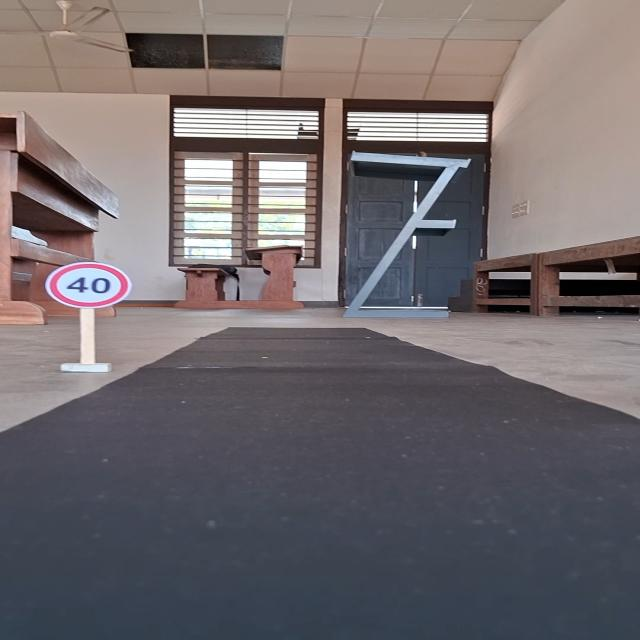Speed40: (41, 261, 136, 311)
